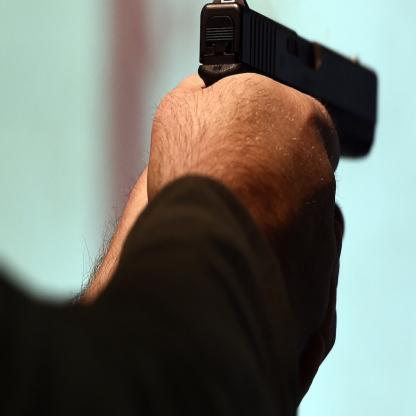gun: (196, 0, 381, 163)
